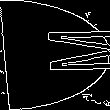M_W: (5, 31, 105, 79)
